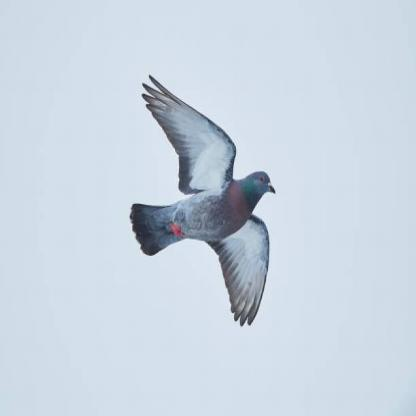Flying Rat: (127, 72, 295, 336)
